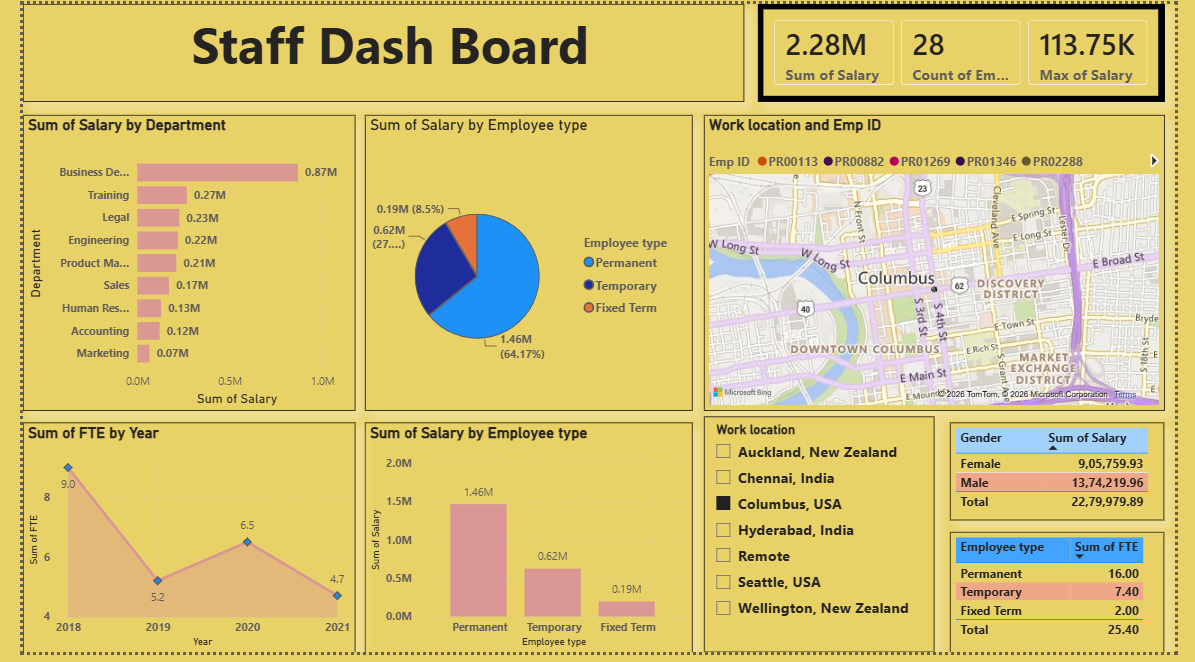

What the dashboard file says about the page in this screenshot:
{"tool":"powerbi","page":{"name":"Yellow alternative theme","canvas":[1280,720],"ordinal":1},"visuals":[{"type":"clusteredBarChart","fields":{"Category":["Staff.Department"],"Y":["Sum(Staff.Salary)"]},"box":[0,123.1,369.2,328.7],"z":0},{"type":"tableEx","fields":{"Values":["Staff.Employee type","Sum(Staff.FTE)"]},"box":[1029.8,586.2,238,134.4],"z":1000},{"type":"cardVisual","fields":{"Data":["Sum(Staff.Salary)","CountNonNull(Staff.Emp ID)","Max(Staff.Salary)"]},"box":[816.1,0,451.8,108.5],"z":2000},{"type":"pieChart","fields":{"Y":["Sum(Staff.Salary)"],"Category":["Staff.Employee type"]},"box":[380.5,123.1,364.3,328.7],"z":3000},{"type":"map","fields":{"Series":["Staff.Emp ID"],"Category":["Staff.Work location"]},"box":[756.2,123.1,511.7,328.7],"z":4000},{"type":"columnChart","fields":{"Category":["Staff.Employee type"],"Y":["Sum(Staff.Salary)"]},"box":[380.5,464.7,364.3,255.8],"z":5000},{"type":"tableEx","fields":{"Values":["Staff.Gender","Sum(Staff.Salary)"]},"box":[1029.8,464.7,238,108.5],"z":6000},{"type":"slicer","fields":{"Values":["Staff.Work location"]},"box":[756.2,458.2,255.8,262.3],"z":7000},{"type":"lineChart","fields":{"Category":["Staff.Start Date.Variation.Date Hierarchy.Year","Staff.Start Date.Variation.Date Hierarchy.Quarter","Staff.Start Date.Variation.Date Hierarchy.Month","Staff.Start Date.Variation.Date Hierarchy.Day"],"Y":["Sum(Staff.FTE)"]},"box":[0,464.7,369.2,255.8],"z":8000},{"type":"textbox","box":[0,0,801.5,108.5],"z":9000}]}

Visuals, with their boxes in screenshot pixels (x1, y1, x2, y2), scaled from the page's 1280x720 canvas onto the 1195x662 screenshot:
clusteredBarChart - Staff.Department x Sum(Staff.Salary): (x1=0, y1=113, x2=345, y2=415)
tableEx - Staff.Employee type x Sum(Staff.FTE): (x1=961, y1=539, x2=1184, y2=661)
cardVisual - Sum(Staff.Salary) x CountNonNull(Staff.Emp ID): (x1=762, y1=0, x2=1184, y2=100)
pieChart - Sum(Staff.Salary) x Staff.Employee type: (x1=355, y1=113, x2=695, y2=415)
map - Staff.Emp ID x Staff.Work location: (x1=706, y1=113, x2=1184, y2=415)
columnChart - Staff.Employee type x Sum(Staff.Salary): (x1=355, y1=427, x2=695, y2=661)
tableEx - Staff.Gender x Sum(Staff.Salary): (x1=961, y1=427, x2=1184, y2=527)
slicer - Staff.Work location: (x1=706, y1=421, x2=945, y2=661)
lineChart - Staff.Start Date.Variation.Date Hierarchy.Year x Staff.Start Date.Variation.Date Hierarchy.Quarter: (x1=0, y1=427, x2=345, y2=661)
textbox: (x1=0, y1=0, x2=748, y2=100)
